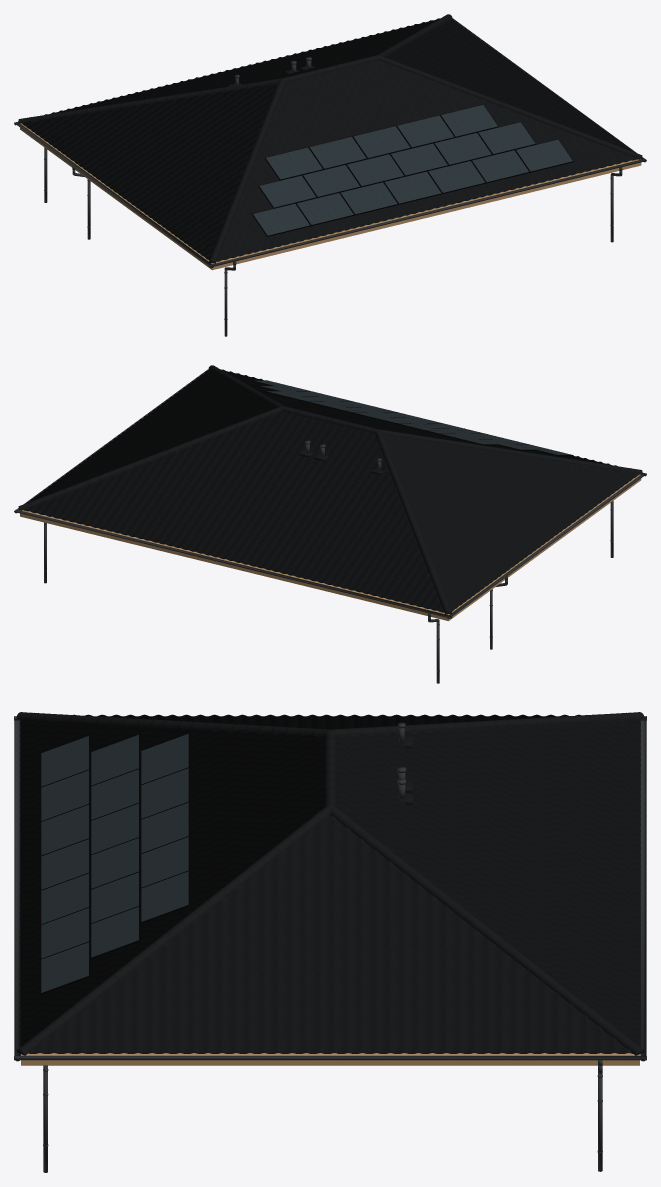
The model's file is strecha.glb.
The picture shows the model from 3 angles, top to bottom: view 1: azimuth 30°, elevation 25°; view 2: azimuth 150°, elevation 25°; view 3: azimuth 270°, elevation 25°; orthographic projection. The views are drawn at different scales.
Visible parts, largest first — view 1: strecha; view 2: strecha; view 3: strecha.
Boxes of the visible parts, x1,y1,x2,y2 form: strecha: (14, 14, 646, 336); strecha: (14, 365, 646, 683); strecha: (14, 712, 646, 1172).
Bounding box in the file's own units: 17.35 × 5.97 × 13.55.
